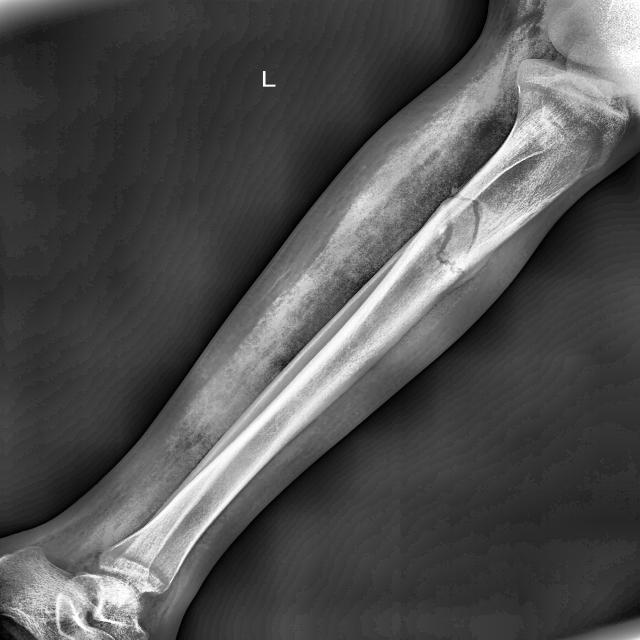Fracture: (422, 234, 466, 287), (462, 183, 502, 237)
